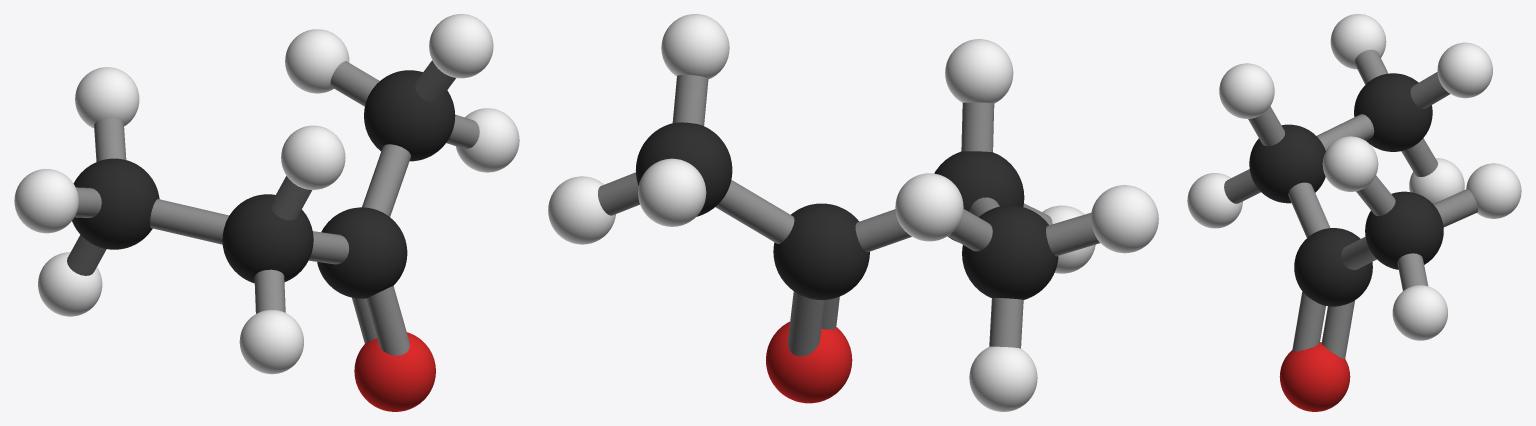
File: butanon.glb
3 views of the same model, side by side, from view 1: azimuth 30°, elevation 25°; view 2: azimuth 150°, elevation 25°; view 3: azimuth 270°, elevation 25° (orthographic). The views are drawn at different scales.
Parts seen in each view (by area): view 1: C_2, C_1, C_4, C_0, O_3, H_5, H_8, H_11, H_9, H_12, H_7, H_6 (+14 smaller); view 2: C_2, C_0, O_3, C_4, H_7, H_12, H_5, H_6, H_8, H_11, C_1, H_10 (+10 smaller); view 3: C_2, C_4, C_0, C_1, O_3, H_7, H_8, H_11, H_10, H_12, H_9, H_5 (+14 smaller).
Boxes of the visible parts, left/top/right/bottom form: C_2: left=317, top=207, right=407, bottom=298; C_1: left=222, top=194, right=313, bottom=283; C_4: left=364, top=70, right=455, bottom=161; C_0: left=72, top=158, right=159, bottom=249; O_3: left=354, top=332, right=435, bottom=411; H_5: left=14, top=169, right=78, bottom=233; H_8: left=281, top=125, right=345, bottom=189; H_11: left=429, top=14, right=493, bottom=78; H_9: left=239, top=309, right=303, bottom=374; H_12: left=285, top=29, right=349, bottom=93; H_7: left=75, top=67, right=139, bottom=128; H_6: left=38, top=252, right=102, bottom=316; C_2: left=773, top=203, right=869, bottom=299; C_0: left=962, top=205, right=1058, bottom=299; O_3: left=766, top=321, right=852, bottom=403; C_4: left=635, top=122, right=732, bottom=216; H_7: left=895, top=173, right=963, bottom=241; H_12: left=638, top=158, right=706, bottom=226; H_5: left=1091, top=185, right=1158, bottom=253; H_6: left=969, top=346, right=1037, bottom=411; H_8: left=945, top=39, right=1013, bottom=103; H_11: left=661, top=14, right=729, bottom=79; C_1: left=934, top=151, right=1024, bottom=242; H_10: left=548, top=176, right=615, bottom=244; C_2: left=1294, top=228, right=1372, bottom=306; C_4: left=1365, top=191, right=1443, bottom=269; C_0: left=1354, top=73, right=1432, bottom=151; C_1: left=1249, top=124, right=1325, bottom=203; O_3: left=1279, top=342, right=1350, bottom=411; H_7: left=1437, top=42, right=1492, bottom=98; H_8: left=1219, top=63, right=1274, bottom=118; H_11: left=1322, top=136, right=1378, bottom=191; H_10: left=1392, top=285, right=1447, bottom=340; H_12: left=1466, top=163, right=1521, bottom=218; H_9: left=1187, top=173, right=1242, bottom=228; H_5: left=1330, top=14, right=1386, bottom=69.
Size of the model in its own units: 5.72 by 3.65 by 3.61.
